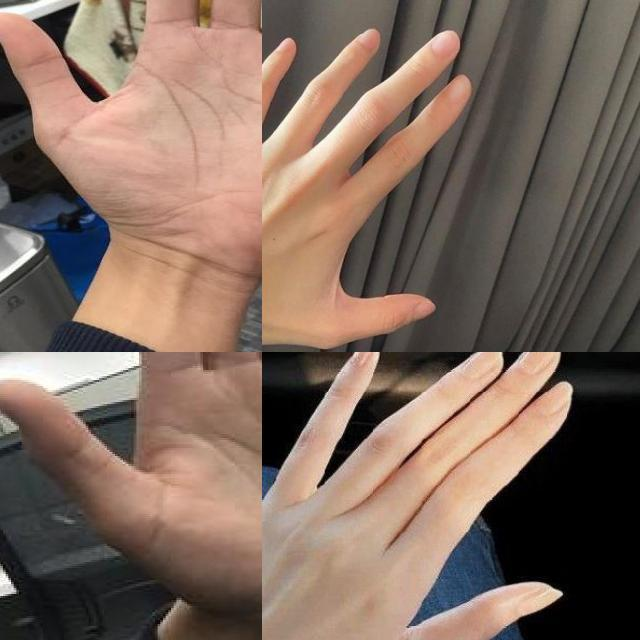no-gloves: (262, 352, 574, 640), (0, 0, 262, 264), (262, 28, 472, 352), (0, 352, 262, 604)
